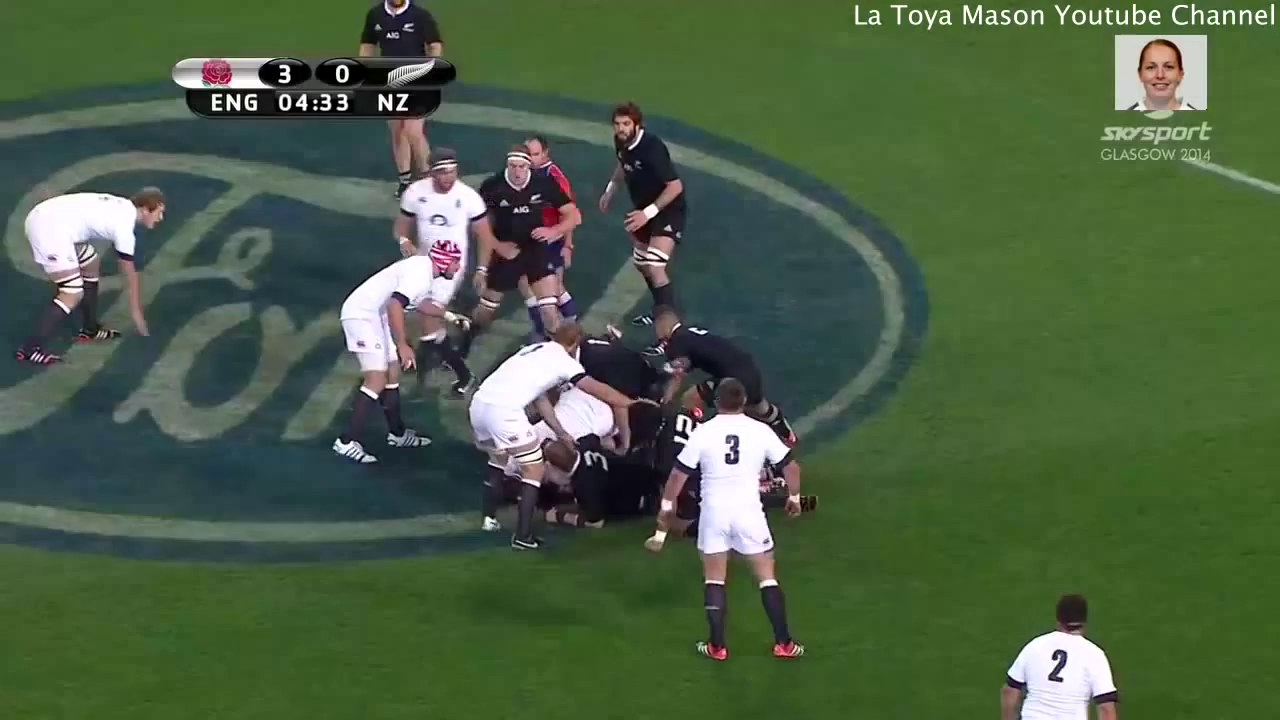player: (642, 374, 817, 680), (325, 240, 473, 472), (1, 185, 181, 369), (462, 326, 579, 552), (465, 148, 574, 336), (595, 106, 696, 302), (990, 592, 1124, 720), (387, 149, 485, 259), (652, 316, 761, 395), (523, 143, 585, 265), (357, 1, 453, 60), (381, 120, 433, 181)
ruck: (486, 317, 782, 539)
